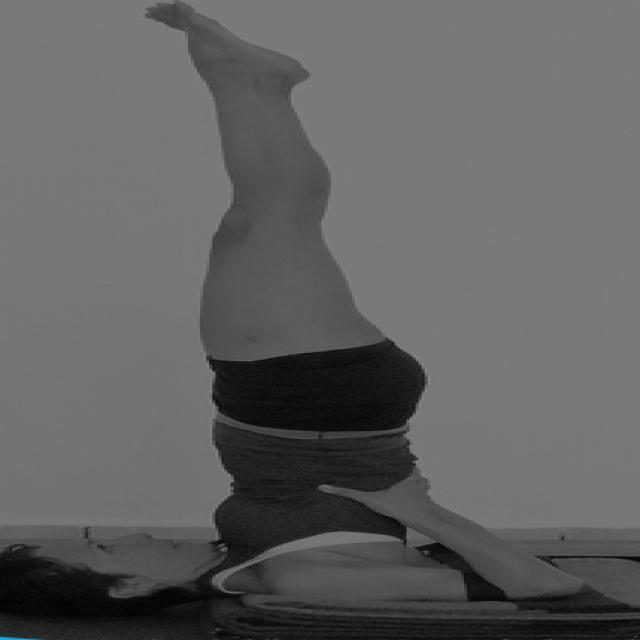yoga-pose shoulderstand: (1, 0, 589, 607)
